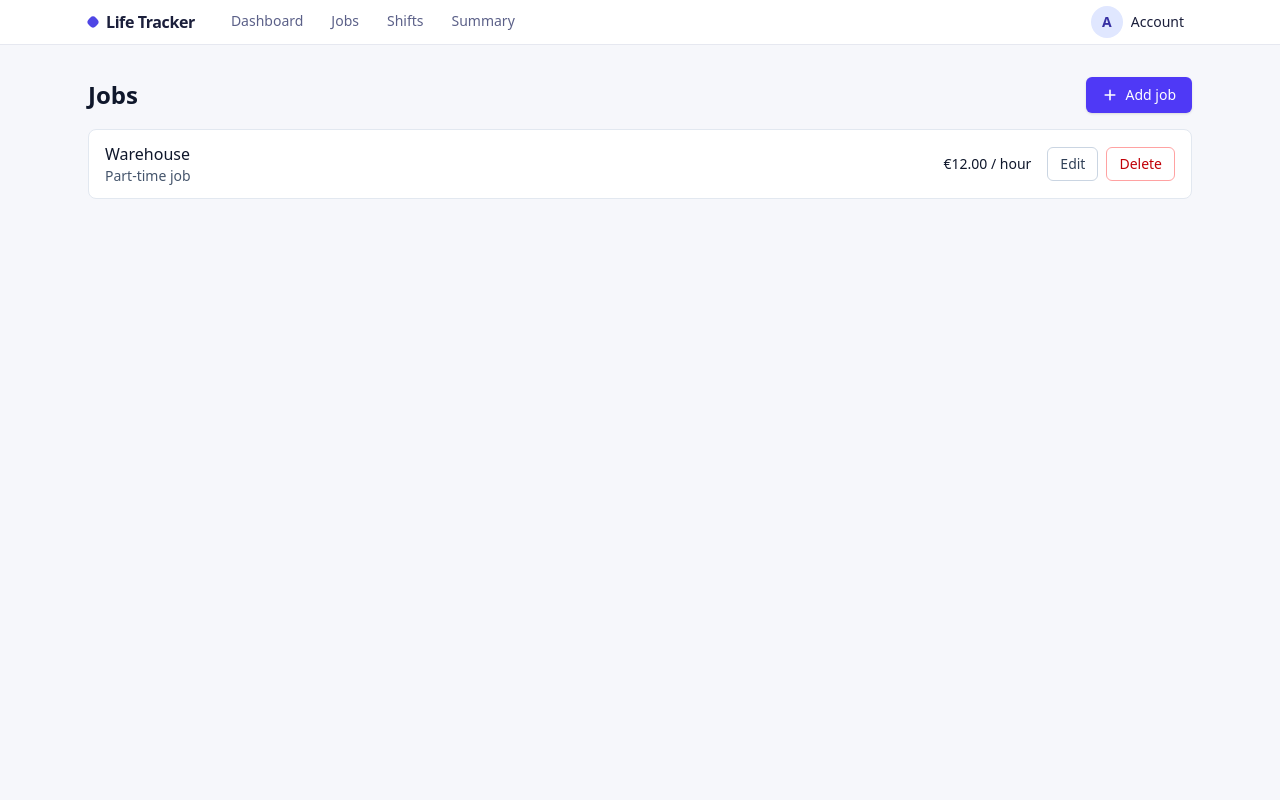
Test: JobsPage › closes the edit dialog without saving when Cancel is pressed
Expected: the list "Warehouse Part-time job €12.00 / hour Edit Delete" is shown, [88, 129, 1192, 199]
Click the button with aria-label "Edit Warehouse".
click(1073, 164)  # box [1047, 147, 1098, 181]
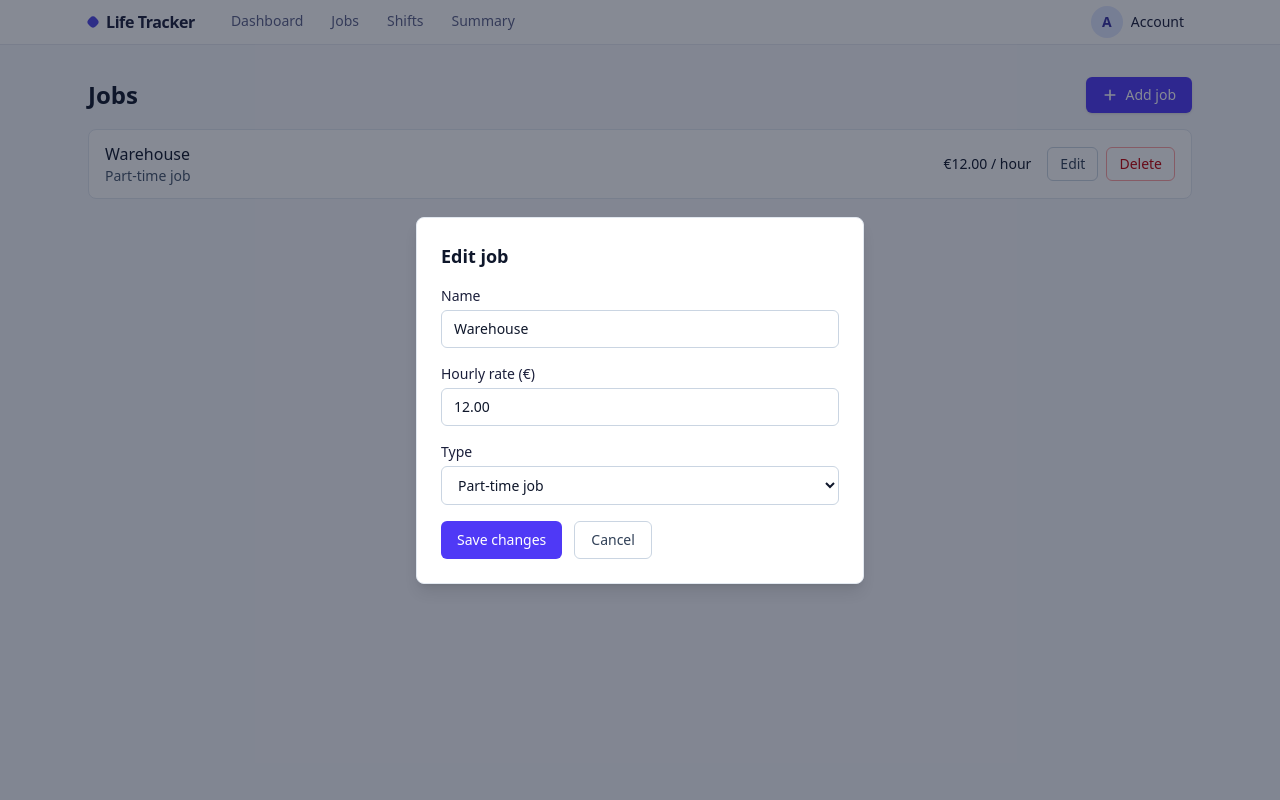
Click the button "Cancel".
click(613, 540)  # box [574, 520, 652, 558]
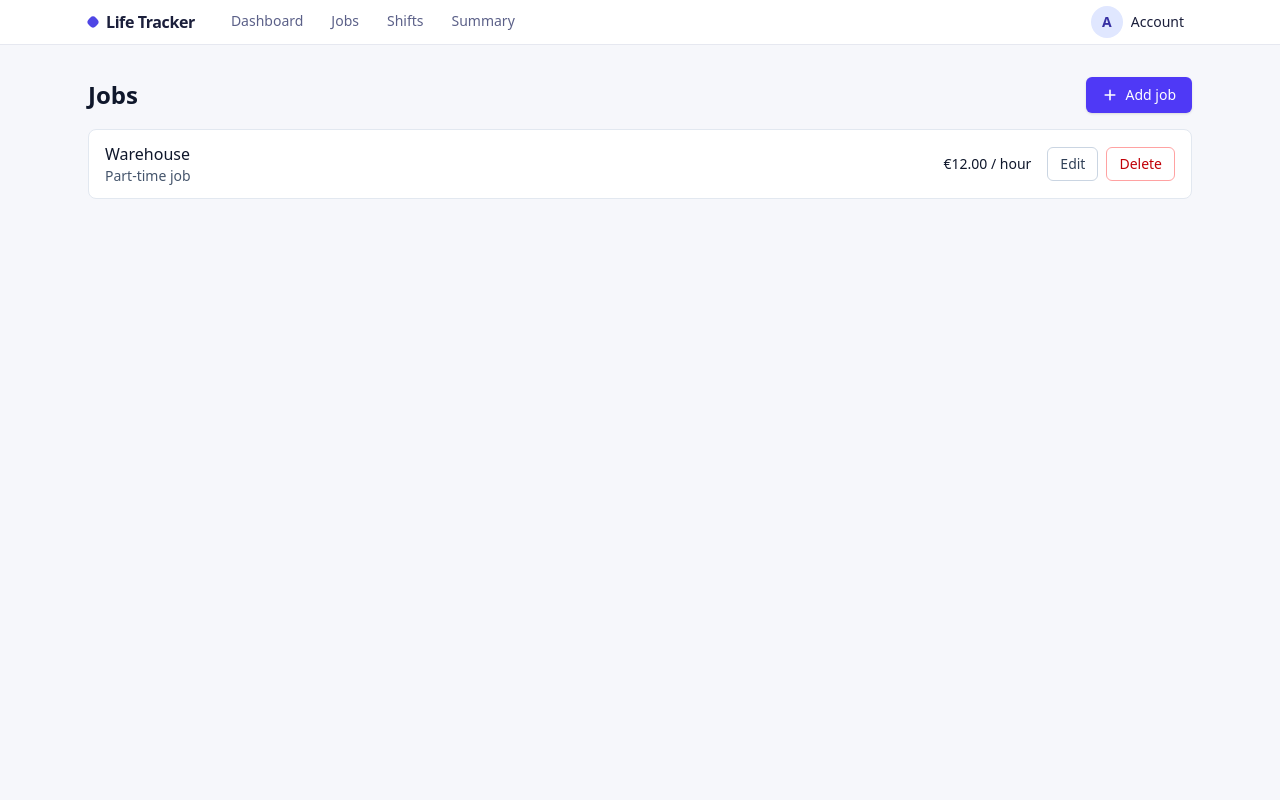
Now the dialog is gone
